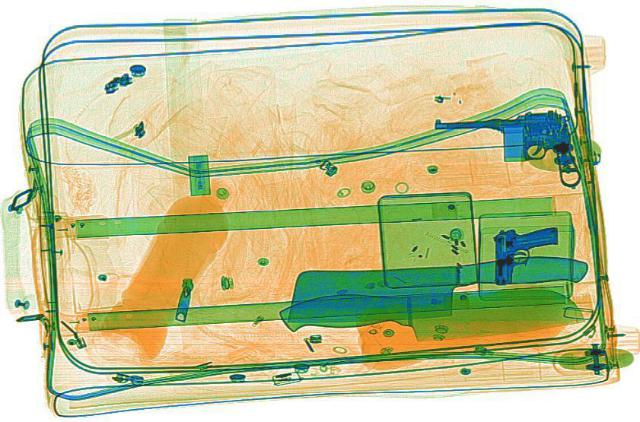Gun: (426, 105, 582, 193), (488, 225, 564, 282)
Knife: (292, 253, 588, 324), (271, 287, 581, 342)
